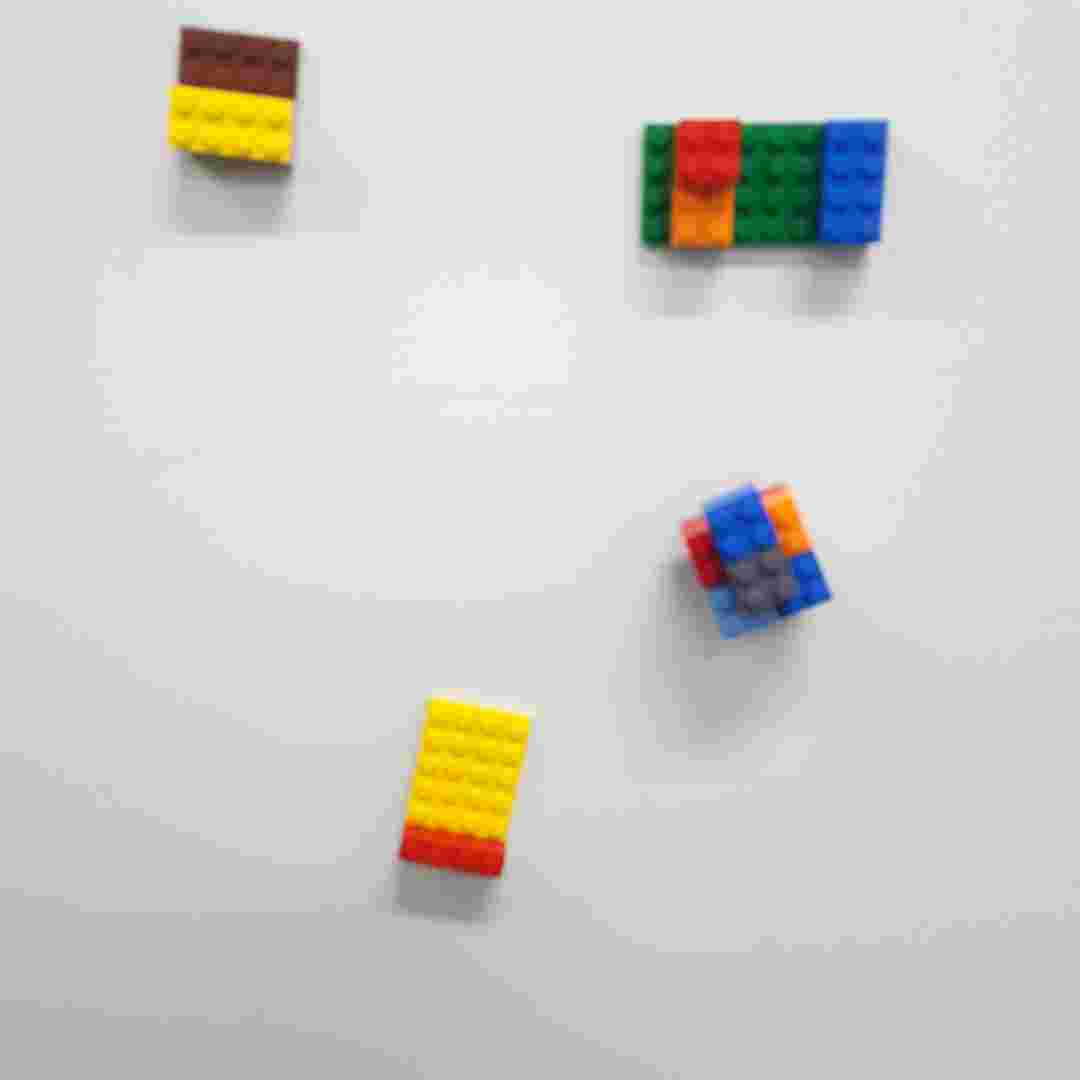LEGO: (632, 111, 900, 252), (680, 477, 840, 640), (398, 693, 529, 886), (164, 22, 308, 175)
